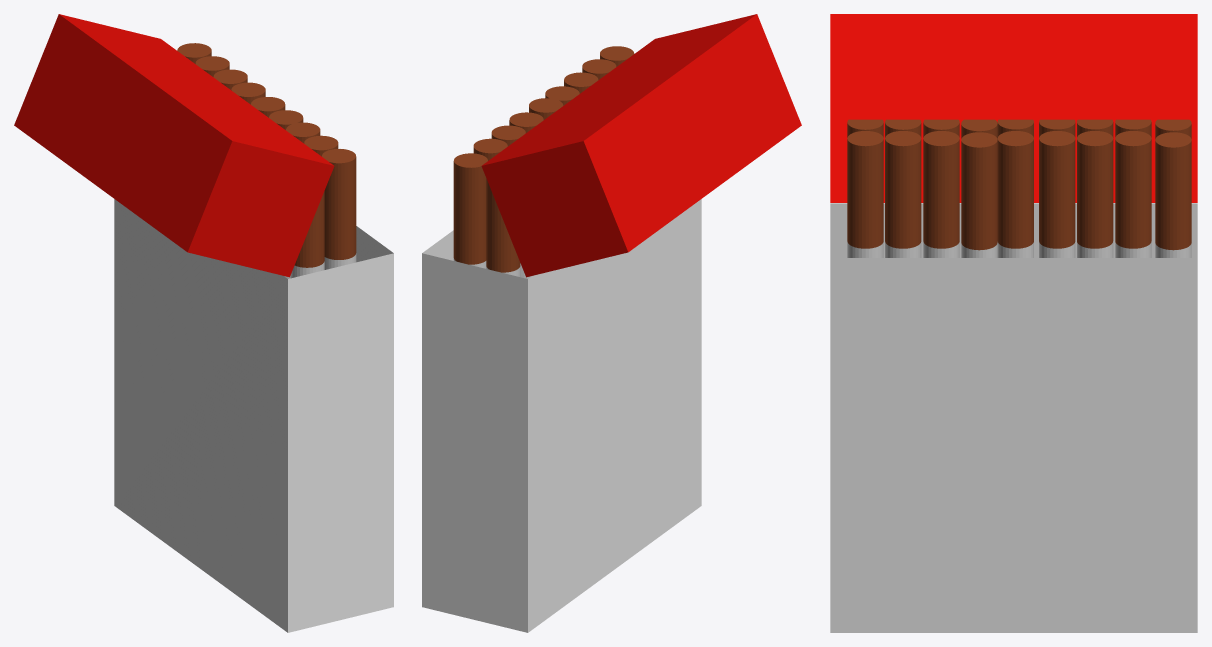
The model's file is Cigarettes pack.fbx.
The picture shows the model from 3 angles, left to right: view 1: azimuth 30°, elevation 25°; view 2: azimuth 150°, elevation 25°; view 3: azimuth 270°, elevation 25°; orthographic projection. The views are drawn at different scales.
Visible parts, largest first — view 1: cigarettes pack; view 2: cigarettes pack; view 3: cigarettes pack.
Boxes of the visible parts, x1=… form: cigarettes pack: x1=14, y1=14, x2=393, y2=632; cigarettes pack: x1=422, y1=14, x2=801, y2=632; cigarettes pack: x1=830, y1=14, x2=1197, y2=632.
Size of the model in its own units: 137 by 321 by 200.
